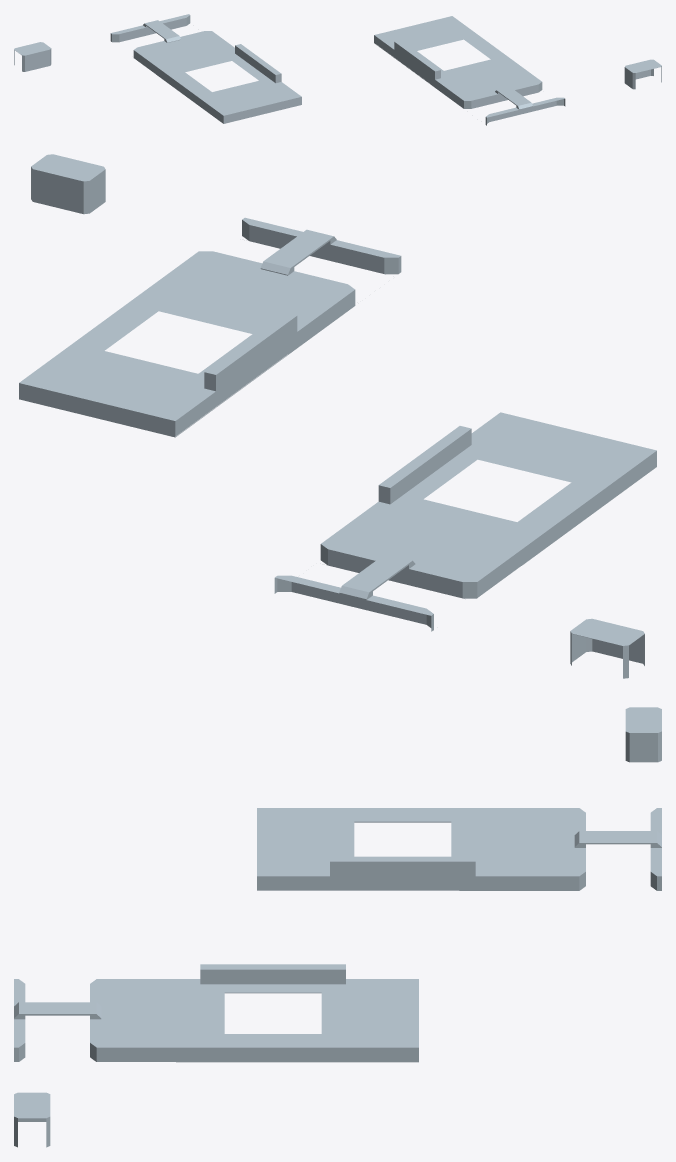
The picture shows the model from 3 angles, top to bottom: view 1: azimuth 30°, elevation 25°; view 2: azimuth 150°, elevation 25°; view 3: azimuth 270°, elevation 25°; orthographic projection. The views are drawn at different scales.
Parts seen in each view (by area): view 1: material_03; view 2: material_03; view 3: material_03.
Part boxes in pixels (x1,y1,x2,y2): material_03: [14, 14, 661, 125]; material_03: [19, 154, 656, 678]; material_03: [14, 707, 661, 1147].
Size of the model in its own units: 12 by 8 by 0.403.
